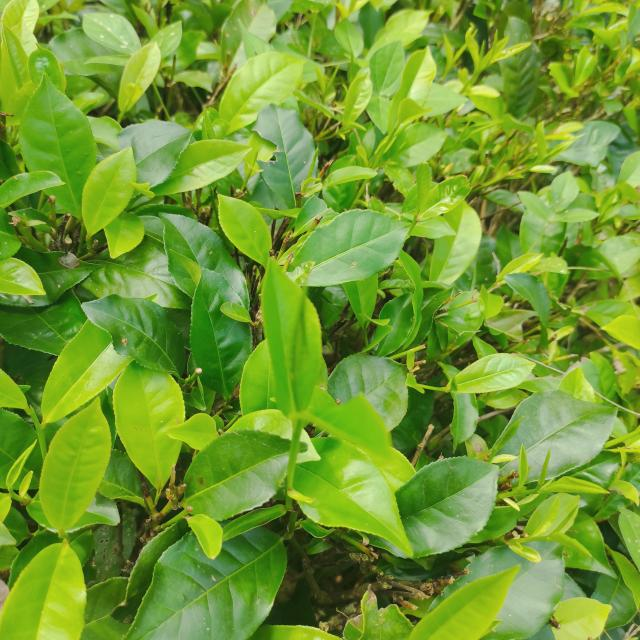unopened_leaf: (275, 254, 327, 439), (0, 432, 47, 493), (540, 523, 596, 562), (533, 436, 560, 496), (338, 113, 375, 142), (436, 366, 466, 399), (484, 26, 505, 65), (121, 75, 143, 106), (615, 440, 630, 482)
